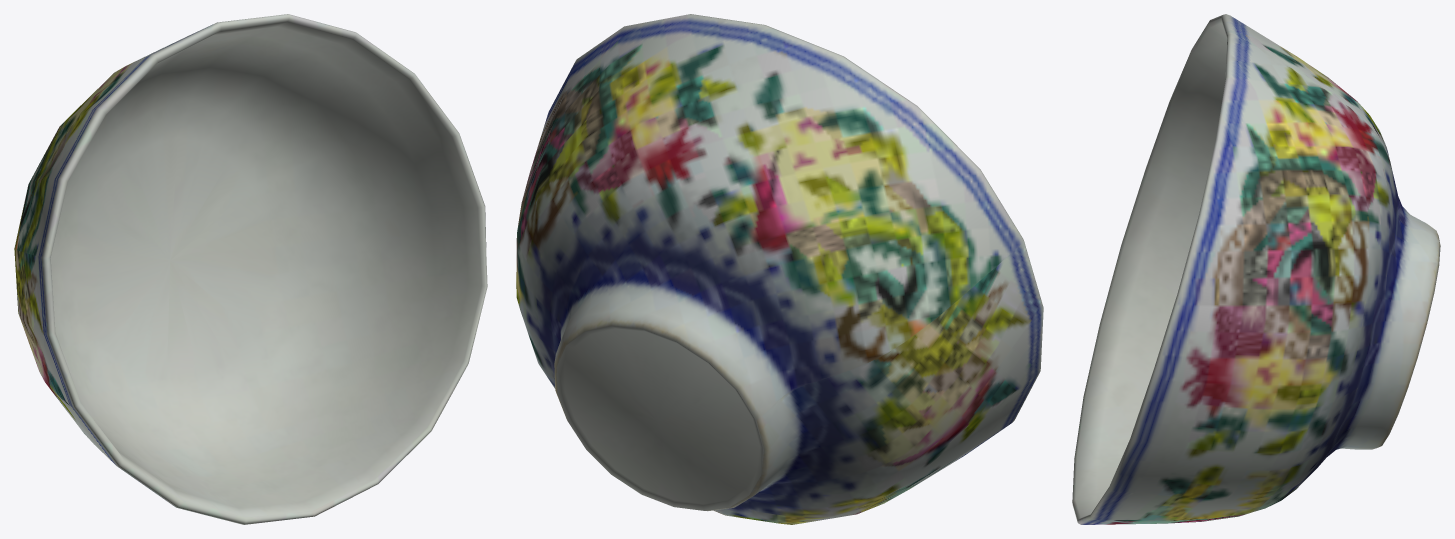
The model's file is ChinaBowl.obj.
The picture shows the model from 3 angles, left to right: view 1: azimuth 30°, elevation 25°; view 2: azimuth 150°, elevation 25°; view 3: azimuth 270°, elevation 25°; orthographic projection. The views are drawn at different scales.
Visible parts, largest first — view 1: MDCNR25IDC01_LOD2.002; view 2: MDCNR25IDC01_LOD2.002; view 3: MDCNR25IDC01_LOD2.002.
Boxes of the visible parts, bbox=[...] form: MDCNR25IDC01_LOD2.002: bbox=[14, 14, 487, 524]; MDCNR25IDC01_LOD2.002: bbox=[516, 14, 1043, 524]; MDCNR25IDC01_LOD2.002: bbox=[1072, 14, 1440, 524].
Bounding box in the file's own units: 1.75 × 1.69 × 1.22.
